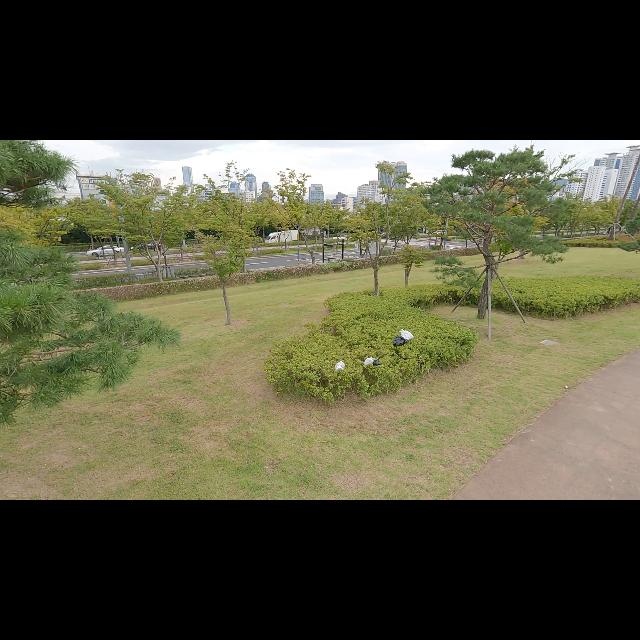trash: (401, 328, 415, 342), (393, 337, 405, 348), (334, 361, 346, 371), (365, 358, 377, 367), (372, 358, 382, 368)
